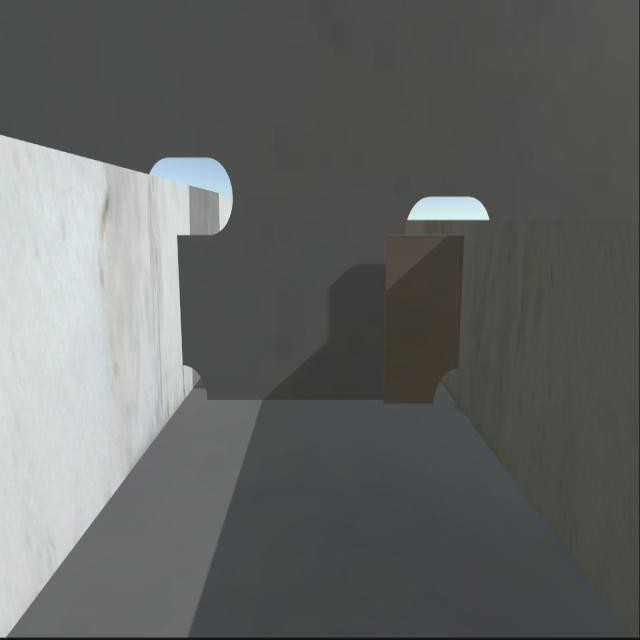fillet_hole: (432, 368, 460, 409), (178, 356, 205, 398)
fillet_yong_jeop_jang: (205, 390, 441, 407)
longi_yong_jeop_jang: (448, 236, 470, 372), (173, 236, 189, 360)
plate_CP01: (382, 235, 469, 408)
